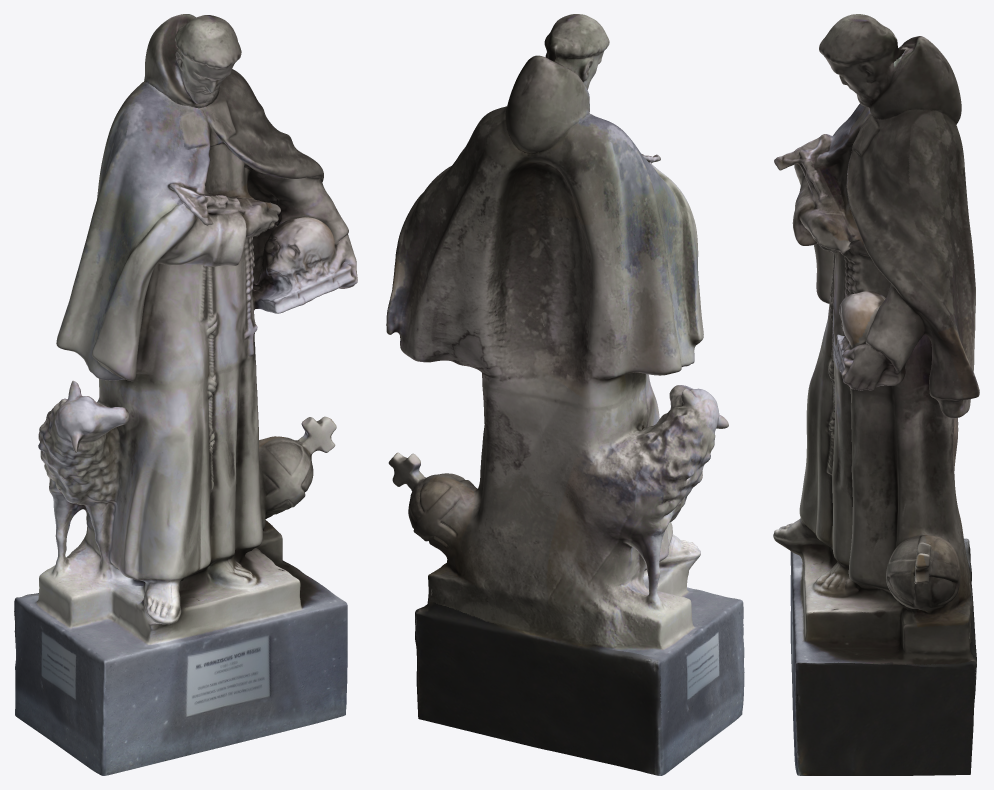
The model's file is st._franziscus_spontaneous_scan.glb.
3 views of the same model, side by side, from view 1: azimuth 30°, elevation 25°; view 2: azimuth 150°, elevation 25°; view 3: azimuth 270°, elevation 25° (orthographic). The views are drawn at different scales.
Visible parts, largest first — view 1: Object_2, Object_3, Object_4; view 2: Object_2, Object_3, Object_4; view 3: Object_2, Object_3, Object_4.
Boxes of the visible parts, x1,y1,x2,y2 form: Object_2: (15, 14, 357, 775); Object_3: (14, 14, 357, 775); Object_4: (14, 15, 357, 763); Object_2: (386, 14, 744, 775); Object_3: (386, 14, 743, 775); Object_4: (390, 18, 743, 761); Object_2: (773, 14, 979, 775); Object_3: (773, 14, 976, 755); Object_4: (779, 14, 976, 775).
Bounding box in the file's own units: 0.8983 × 1.98 × 0.5251.
1 material, 1 textured.
